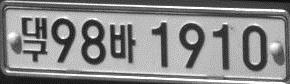0: (242, 24, 267, 71)
1: (148, 21, 174, 67), (210, 24, 235, 70)
8: (81, 19, 106, 65)
9: (178, 22, 205, 68), (51, 17, 76, 63)
대구_V: (21, 17, 47, 62)
바: (109, 23, 136, 63)
